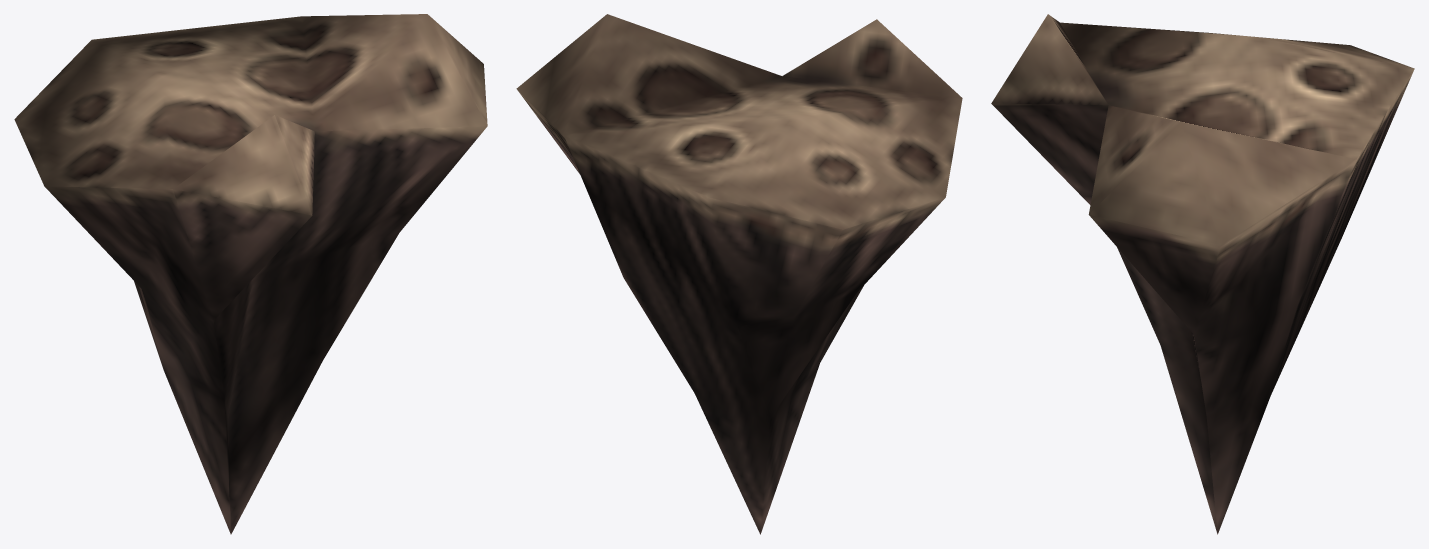
Rendered from Asteroid_03.FBX.
3 renders of one model, left to right at view 1: azimuth 30°, elevation 25°; view 2: azimuth 150°, elevation 25°; view 3: azimuth 270°, elevation 25°, orthographic. The views are drawn at different scales.
Parts seen in each view (by area): view 1: Asteroid_03; view 2: Asteroid_03; view 3: Asteroid_03.
Boxes of the visible parts, x1,y1,x2,y2 form: Asteroid_03: (14, 14, 487, 534); Asteroid_03: (516, 14, 962, 534); Asteroid_03: (991, 14, 1414, 534).
Bounding box in the file's own units: 81.84 × 65.93 × 86.13.
